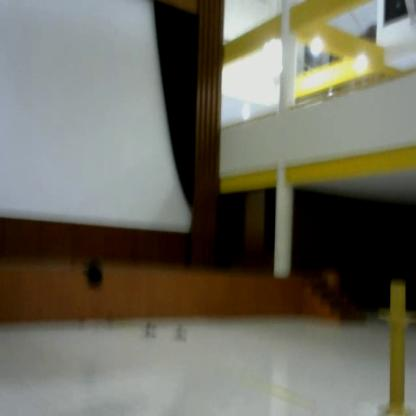pole: (374, 278, 416, 416)
